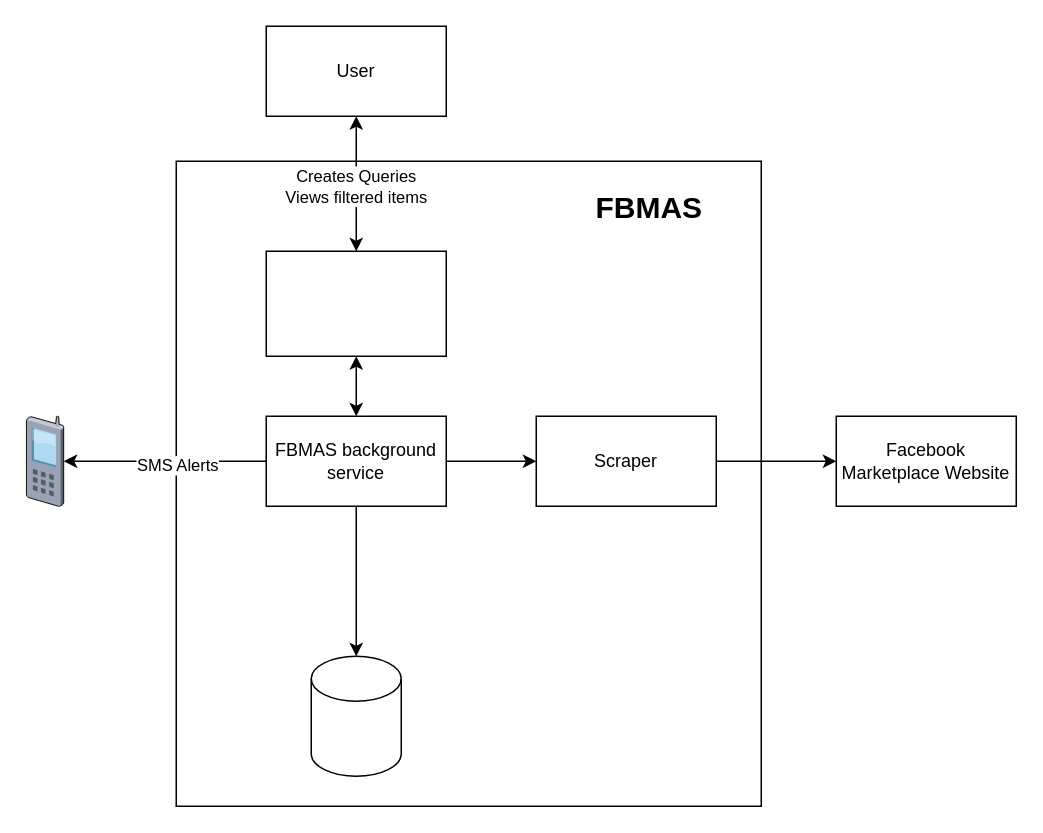
The diagram is 1043 pixels wide and 833 high, and some of its shapes have lost their labels. Here are the shapes that lost their labels. From the top down, the box of each, then its label:
(265, 250, 446, 356): GUI
(310, 655, 401, 776): DB
